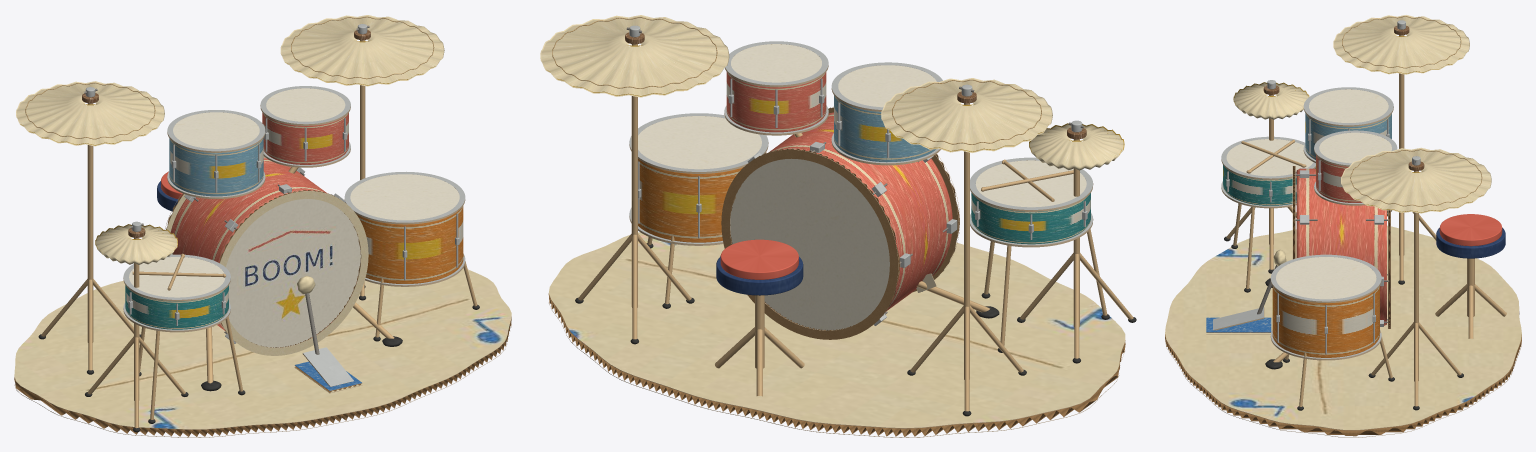
File: 33_recycled_drum_kit.glb
The picture shows the model from 3 angles, left to right: view 1: azimuth 30°, elevation 25°; view 2: azimuth 150°, elevation 25°; view 3: azimuth 270°, elevation 25°; orthographic projection. The views are drawn at different scales.
Parts seen in each view (by area): view 1: artwork_33_recycled_drum_kit, cream, white, foil, wood, flute, edge, sand, metal, clay_black, foil_gold, wood_light (+1 smaller); view 2: artwork_33_recycled_drum_kit, white, cream, wood, foil, kraft, flute, edge, clay_coral, paint_navy, sand, metal (+3 smaller); view 3: artwork_33_recycled_drum_kit, cream, white, wood, foil, flute, edge, clay_coral, paint_navy, sand, blue, metal (+3 smaller).
Boxes of the visible parts, box(x1,y1,x2,y2) form: artwork_33_recycled_drum_kit: box(14, 112, 511, 429); cream: box(16, 15, 444, 355); white: box(129, 88, 459, 297); foil: box(85, 24, 465, 386); wood: box(41, 40, 477, 428); flute: box(14, 190, 511, 436); edge: box(14, 88, 511, 437); sand: box(25, 16, 434, 139); metal: box(129, 118, 458, 325); clay_black: box(38, 285, 479, 432); foil_gold: box(20, 41, 435, 251); wood_light: box(132, 253, 225, 290); artwork_33_recycled_drum_kit: box(549, 72, 1125, 427); white: box(638, 44, 1086, 330); cream: box(540, 15, 1124, 170); wood: box(578, 44, 1133, 411); foil: box(629, 25, 1092, 325); kraft: box(721, 107, 958, 339); flute: box(548, 107, 1125, 436); edge: box(549, 44, 1125, 437); clay_coral: box(720, 239, 798, 279); paint_navy: box(716, 256, 803, 295); sand: box(552, 17, 1041, 144); metal: box(638, 78, 1085, 239); artwork_33_recycled_drum_kit: box(1165, 113, 1521, 429); cream: box(1233, 15, 1491, 213); white: box(1226, 89, 1391, 299); wood: box(1226, 35, 1506, 406); foil: box(1213, 20, 1420, 358); flute: box(1165, 166, 1521, 436); edge: box(1166, 89, 1519, 437); clay_coral: box(1439, 214, 1502, 246); paint_navy: box(1436, 228, 1505, 258); sand: box(1342, 16, 1482, 206); blue: box(1206, 317, 1271, 332); metal: box(1227, 119, 1388, 354).
Bounding box in the file's own units: 0.5638 × 0.317 × 0.4117.
21 materials, 17 textured.
